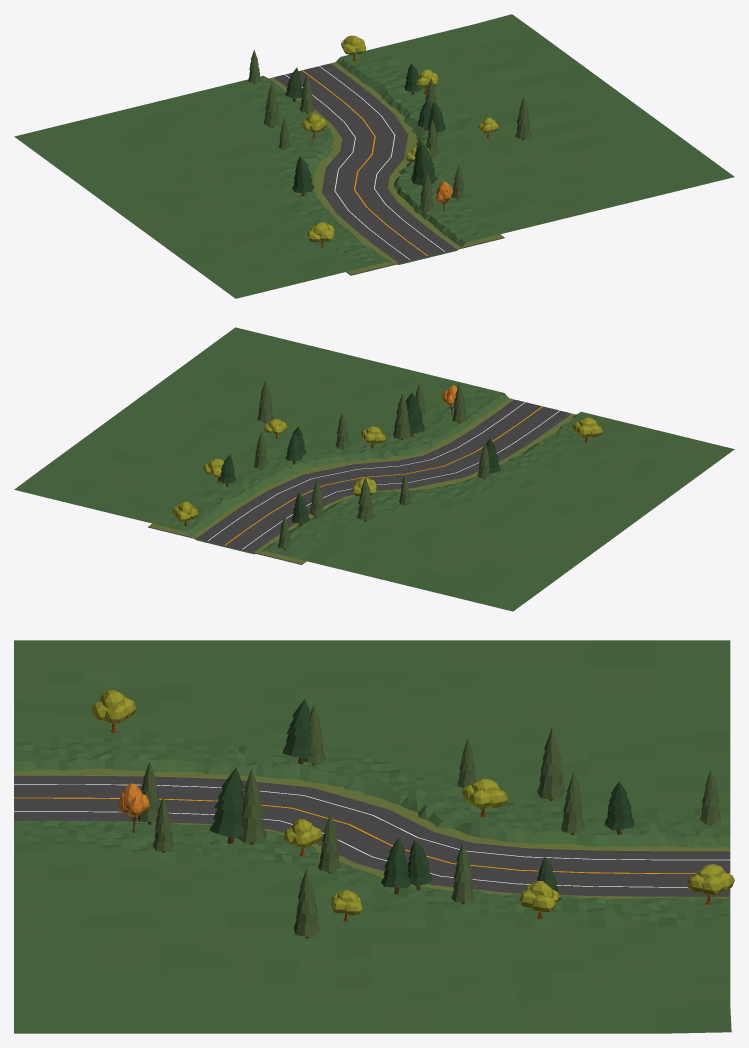
File: ForestRoadStraight7.fbx
3 renders of one model, top to bottom at view 1: azimuth 30°, elevation 25°; view 2: azimuth 150°, elevation 25°; view 3: azimuth 270°, elevation 25°, orthographic. The views are drawn at different scales.
Visible parts, largest first — view 1: FRS7Plane, FRS7Road, FRS7Plane|pineTree04|Dupli|11, FRS7Plane|pineTree04|Dupli|15, FRS7Plane|pineTree05|Dupli|7; view 2: FRS7Plane, FRS7Road, FRS7Plane|pineTree05|Dupli|21, FRS7Plane|pineTree04|Dupli|11, FRS7Plane|oakTree|Dupli|2, FRS7Plane|pineTree05|Dupli|7; view 3: FRS7Plane, FRS7Road, FRS7Plane|pineTree04|Dupli|11, FRS7Plane|pineTree05|Dupli|7, FRS7Plane|pineTree05|Dupli|21, FRS7Plane|pineTree04|Dupli|15, FRS7Plane|pineTree05|Dupli|3, FRS7Plane|oakTree|Dupli|2, FRS7Plane|oakTree|Dupli|16, FRS7Plane|oakTree|Dupli|18, FRS7Plane|pineTree04|Dupli|14, FRS7Plane|pineTree04|Dupli|12 (+12 smaller).
Part boxes in pixels (box(x1,y1,x2,y2)): FRS7Plane: box(14, 14, 734, 298); FRS7Road: box(268, 62, 504, 275); FRS7Plane|pineTree04|Dupli|11: box(411, 141, 437, 186); FRS7Plane|pineTree04|Dupli|15: box(292, 156, 314, 196); FRS7Plane|pineTree05|Dupli|7: box(263, 83, 280, 127); FRS7Plane: box(14, 327, 734, 611); FRS7Road: box(148, 398, 575, 564); FRS7Plane|pineTree05|Dupli|21: box(393, 393, 411, 440); FRS7Plane|pineTree04|Dupli|11: box(405, 392, 424, 436); FRS7Plane|oakTree|Dupli|2: box(572, 417, 602, 443); FRS7Plane|pineTree05|Dupli|7: box(357, 477, 373, 521); FRS7Plane: box(14, 640, 731, 1033); FRS7Road: box(14, 768, 730, 899); FRS7Plane|pineTree04|Dupli|11: box(209, 767, 244, 843); FRS7Plane|pineTree05|Dupli|7: box(537, 727, 565, 800); FRS7Plane|pineTree05|Dupli|21: box(238, 769, 266, 844); FRS7Plane|pineTree04|Dupli|15: box(282, 699, 314, 764); FRS7Plane|pineTree05|Dupli|3: box(293, 869, 320, 938); FRS7Plane|oakTree|Dupli|2: box(91, 690, 136, 732); FRS7Plane|oakTree|Dupli|16: box(687, 864, 734, 905); FRS7Plane|oakTree|Dupli|18: box(462, 778, 507, 817); FRS7Plane|pineTree04|Dupli|14: box(381, 837, 410, 894); FRS7Plane|pineTree04|Dupli|12: box(604, 782, 634, 834).
Size of what is drawn, in the model's own units: 26000 by 2634 by 20133.
